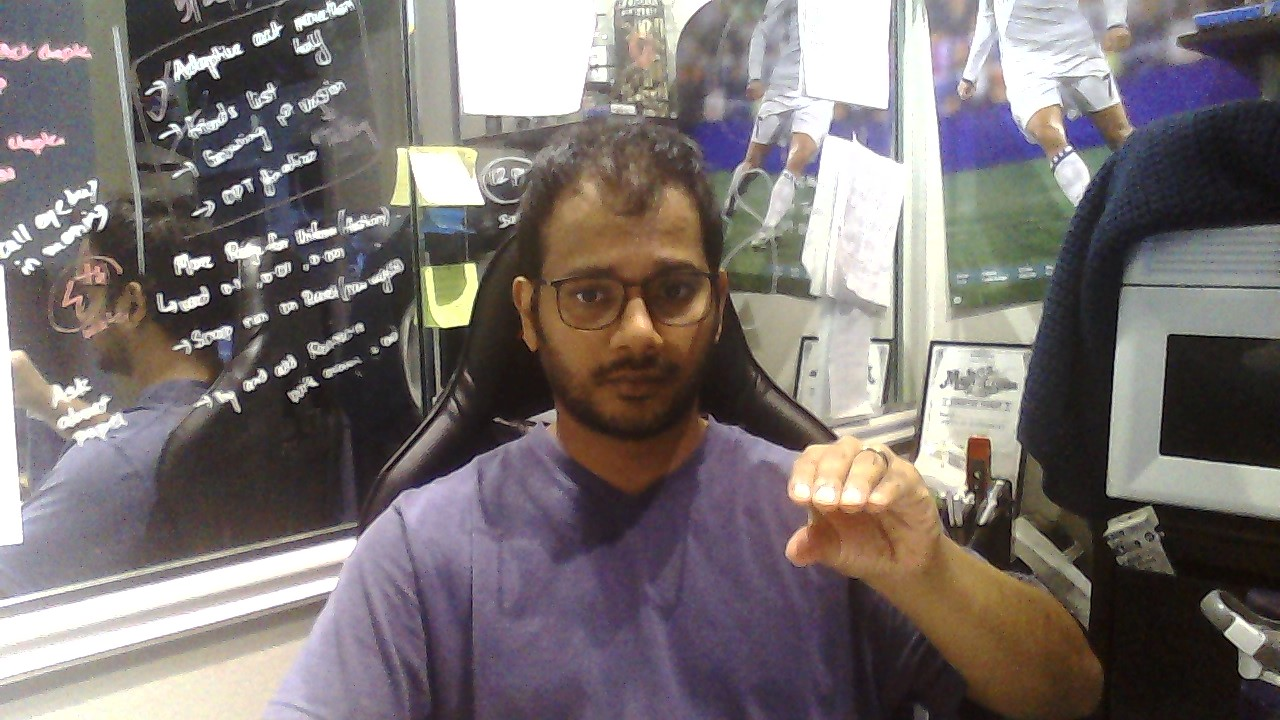No: (784, 434, 937, 578)
